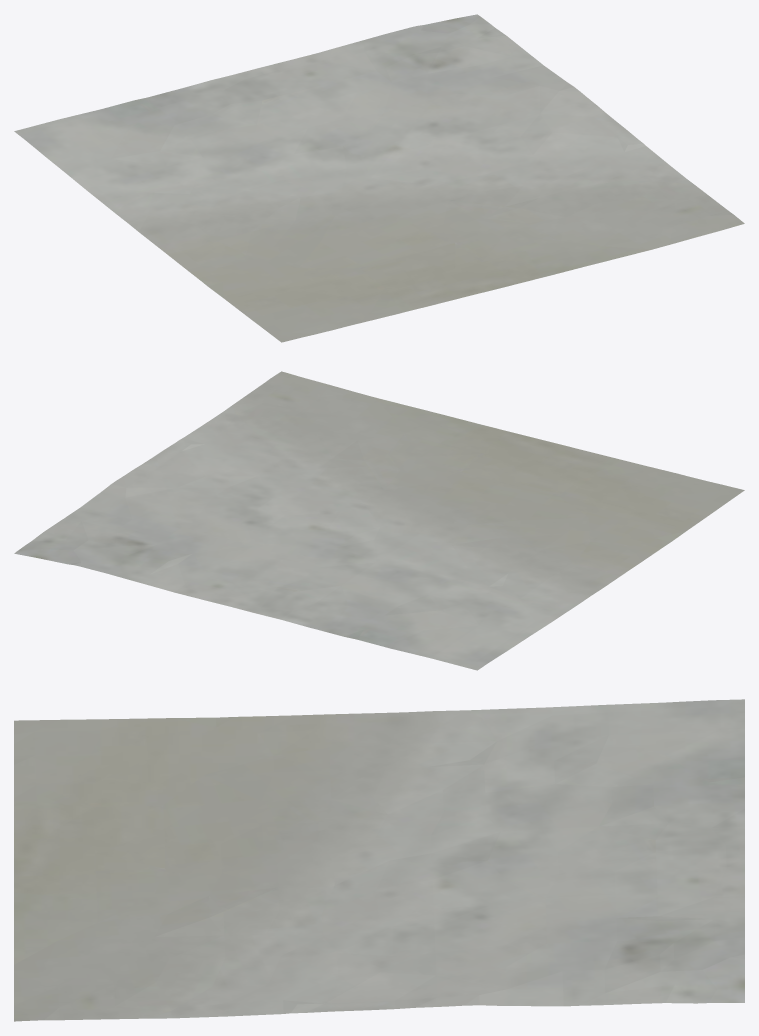
3 renders of one model, top to bottom at view 1: azimuth 30°, elevation 25°; view 2: azimuth 150°, elevation 25°; view 3: azimuth 270°, elevation 25°, orthographic. The views are drawn at different scales.
Bounding box in the file's own units: 52.22 × 2.44 × 52.22.
Materials: 2 (2 with a texture image).
